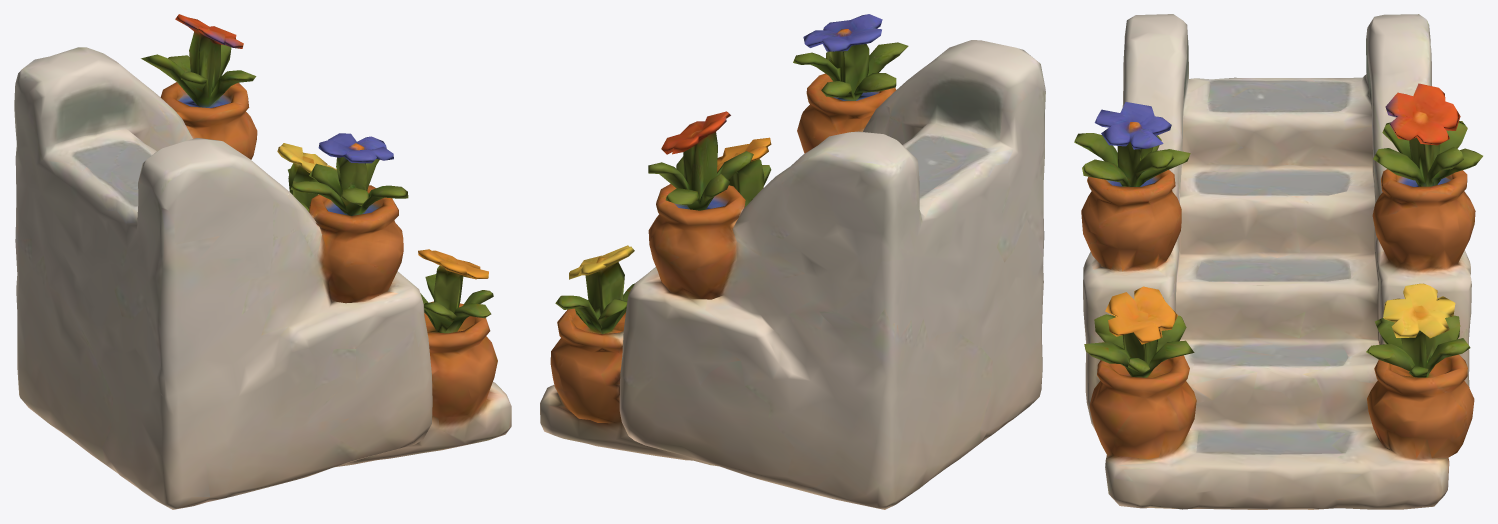
File: steps.glb
3 views of the same model, side by side, from view 1: azimuth 30°, elevation 25°; view 2: azimuth 150°, elevation 25°; view 3: azimuth 270°, elevation 25° (orthographic). The views are drawn at different scales.
Parts seen in each view (by area): view 1: tripo_node_681ca2f2-c760-44da-9c94-bcd9cc3a2e90; view 2: tripo_node_681ca2f2-c760-44da-9c94-bcd9cc3a2e90; view 3: tripo_node_681ca2f2-c760-44da-9c94-bcd9cc3a2e90.
Part boxes in pixels (bbox=[...]): tripo_node_681ca2f2-c760-44da-9c94-bcd9cc3a2e90: bbox=[14, 14, 511, 509]; tripo_node_681ca2f2-c760-44da-9c94-bcd9cc3a2e90: bbox=[540, 14, 1045, 509]; tripo_node_681ca2f2-c760-44da-9c94-bcd9cc3a2e90: bbox=[1074, 14, 1482, 509].
Bounding box in the file's own units: 0.9683 × 0.9329 × 1.
Materials: 1 (1 with a texture image).
